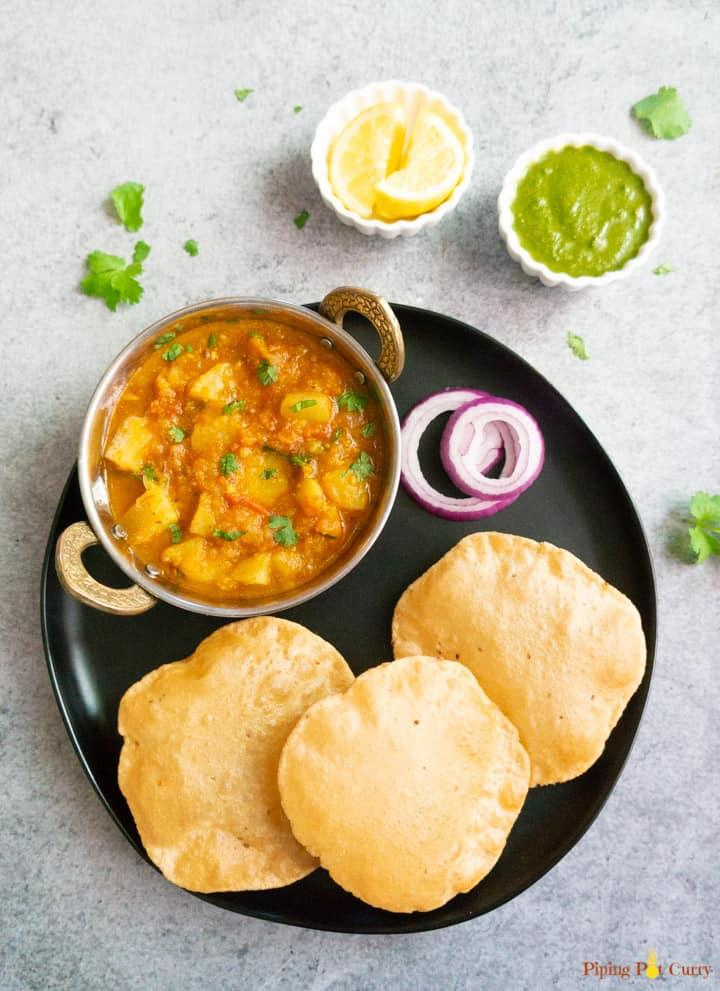puri: (105, 615, 692, 930)
